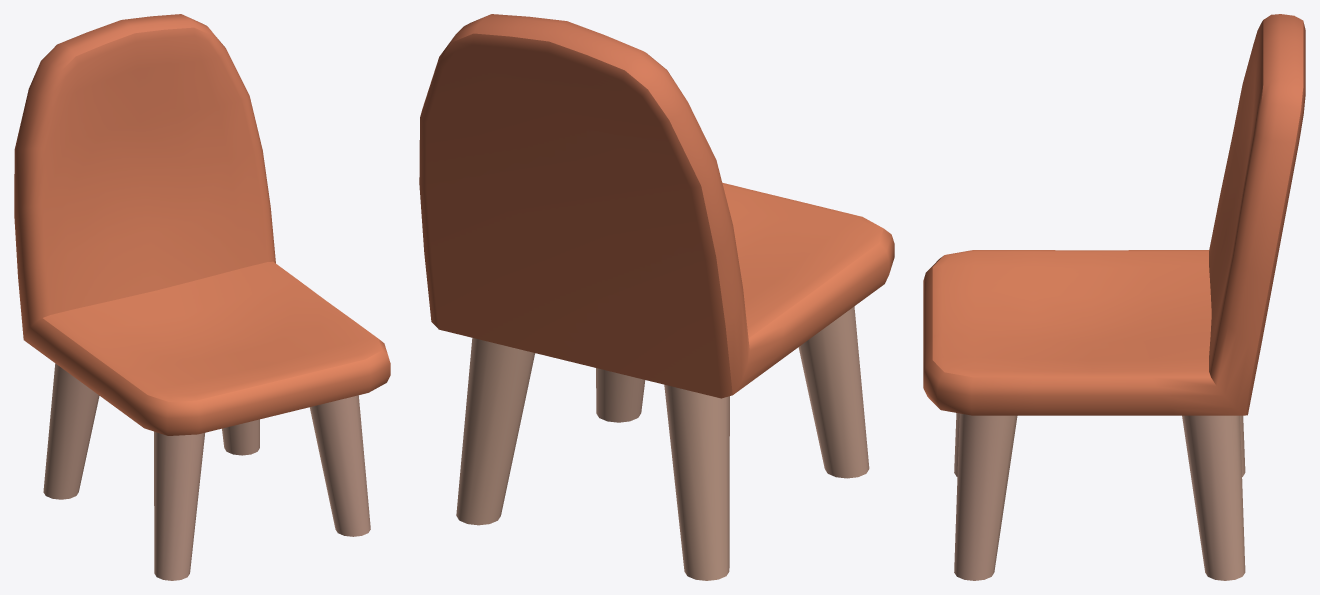
File: Bench_1.fbx
3 views of the same model, side by side, from view 1: azimuth 30°, elevation 25°; view 2: azimuth 150°, elevation 25°; view 3: azimuth 270°, elevation 25° (orthographic). The views are drawn at different scales.
Visible parts, largest first — view 1: Bench_1; view 2: Bench_1; view 3: Bench_1.
Boxes of the visible parts, bbox=[...] form: Bench_1: bbox=[14, 14, 390, 580]; Bench_1: bbox=[419, 14, 894, 580]; Bench_1: bbox=[923, 14, 1305, 580].
Size of the model in its own units: 29.67 by 49.68 by 35.45.
